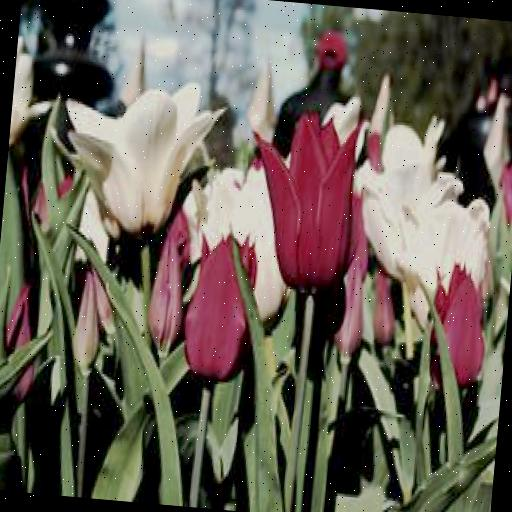tulip: (250, 108, 363, 298), (176, 225, 262, 380), (428, 258, 494, 392)
